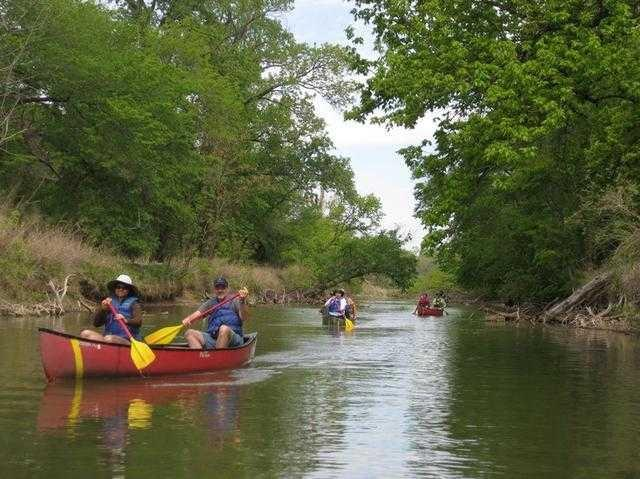kayak: (37, 327, 257, 379), (322, 291, 351, 321), (320, 304, 356, 326), (414, 304, 445, 316)
